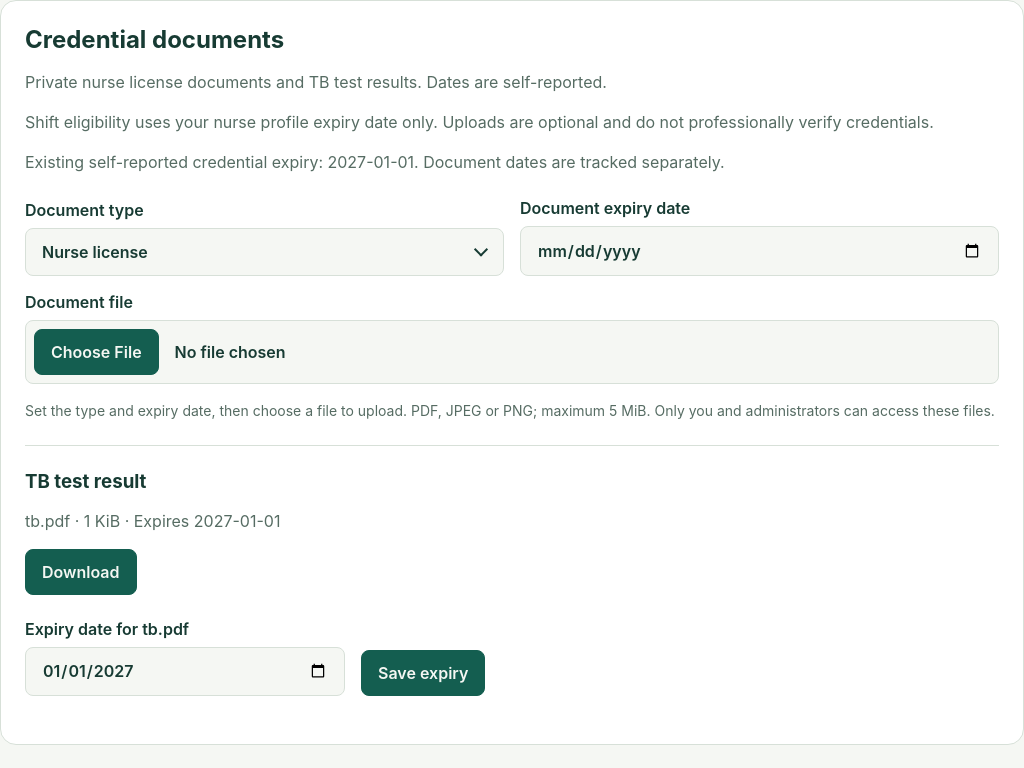
Test: expiry corrections refresh shift eligibility
The width and height of the screenshot is (1024, 768).
Type "2028-01-01" into the date field labelled "Expiry date for tb.pdf" at (185, 671), box [25,647,345,696]
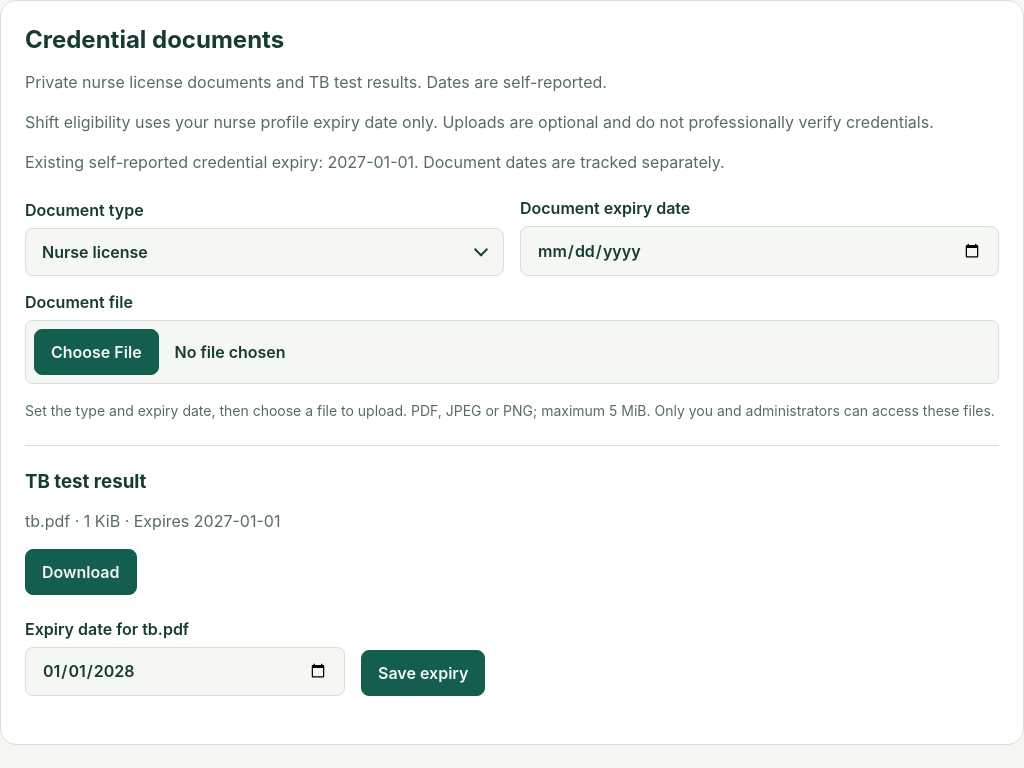
Click the button "Save expiry" at (423, 673), box [361,650,485,696]
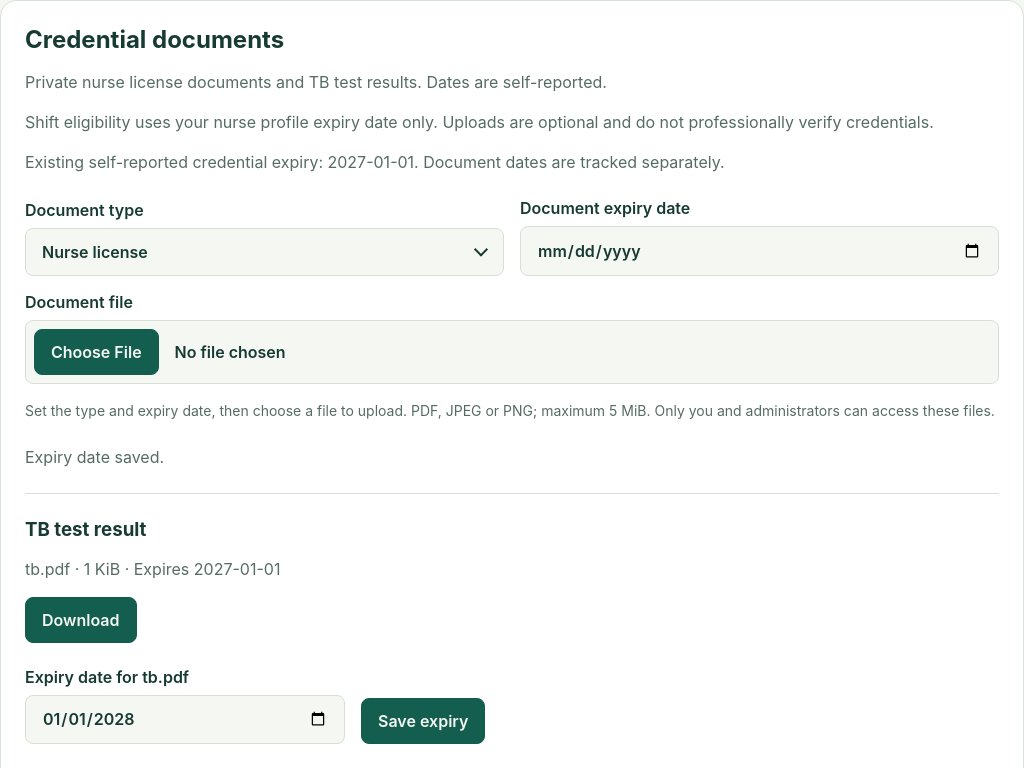
Expected: the text "Expiry date saved." is shown, [25,447,164,467]
